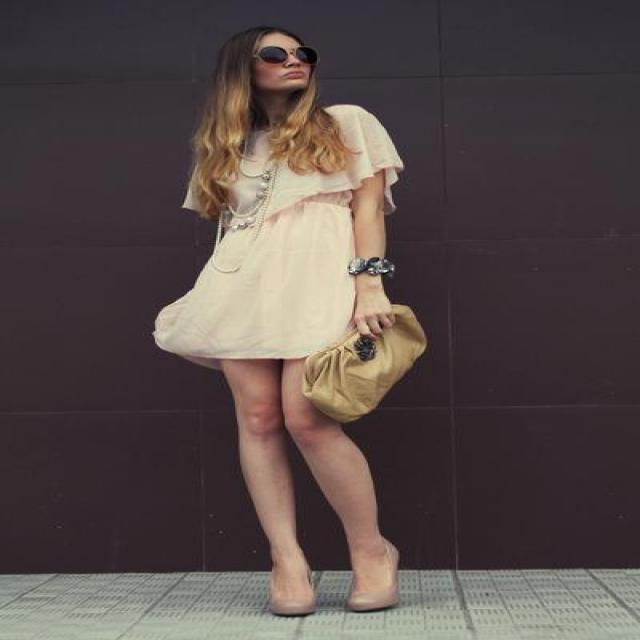bag: (300, 305, 426, 414)
dress: (154, 105, 402, 370)
shoe: (272, 555, 394, 612)
